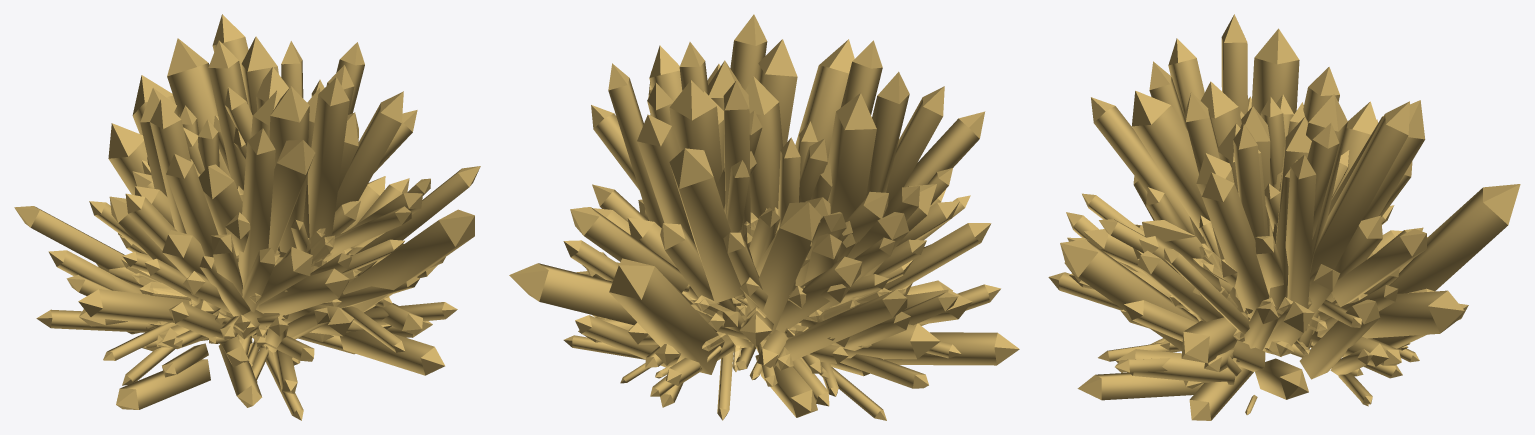
Rendered from crysalite.fbx.
3 renders of one model, left to right at view 1: azimuth 30°, elevation 25°; view 2: azimuth 150°, elevation 25°; view 3: azimuth 270°, elevation 25°, orthographic. The views are drawn at different scales.
Visible parts, largest first — view 1: Cube.005, Cube.009, Cube.002, Cube.006, Cube.008, Cube.007, Cube.004, Cube.001, Cube.010, Cube.003; view 2: Cube.009, Cube.005, Cube.003, Cube.008, Cube.010, Cube.002, Cube.001, Cube.004; view 3: Cube.005, Cube.003, Cube.009, Cube.006, Cube.004, Cube.002, Cube.007, Cube.001, Cube.010.
Part boxes in pixels (bbox=[...]): Cube.005: bbox=[167, 14, 403, 263]; Cube.009: bbox=[89, 88, 315, 313]; Cube.002: bbox=[116, 230, 314, 420]; Cube.006: bbox=[330, 166, 480, 375]; Cube.008: bbox=[14, 206, 208, 385]; Cube.007: bbox=[146, 212, 354, 365]; Cube.004: bbox=[298, 110, 437, 354]; Cube.001: bbox=[121, 186, 361, 347]; Cube.010: bbox=[96, 131, 154, 288]; Cube.003: bbox=[132, 75, 179, 134]; Cube.009: bbox=[743, 39, 985, 341]; Cube.005: bbox=[608, 14, 797, 305]; Cube.003: bbox=[509, 207, 736, 407]; Cube.008: bbox=[775, 256, 972, 420]; Cube.010: bbox=[666, 207, 855, 420]; Cube.002: bbox=[873, 168, 1019, 365]; Cube.001: bbox=[682, 207, 891, 371]; Cube.004: bbox=[576, 105, 741, 351]; Cube.005: bbox=[1185, 67, 1425, 354]; Cube.003: bbox=[1299, 184, 1520, 406]; Cube.009: bbox=[1091, 14, 1377, 242]; Cube.006: bbox=[1060, 219, 1265, 414]; Cube.004: bbox=[1121, 235, 1314, 420]; Cube.002: bbox=[1048, 176, 1188, 344]; Cube.007: bbox=[1064, 220, 1313, 348]; Cube.001: bbox=[1184, 220, 1378, 365]; Cube.010: bbox=[1291, 150, 1427, 376].
Size of the model in its own units: 2.52 by 2.06 by 2.84.
